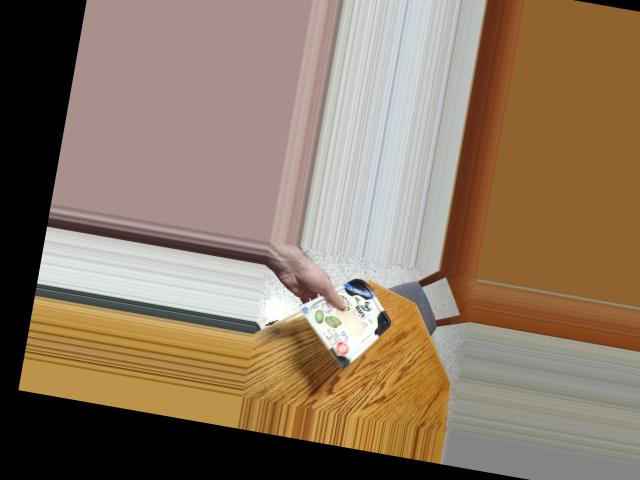cheese: (309, 272, 389, 361)
